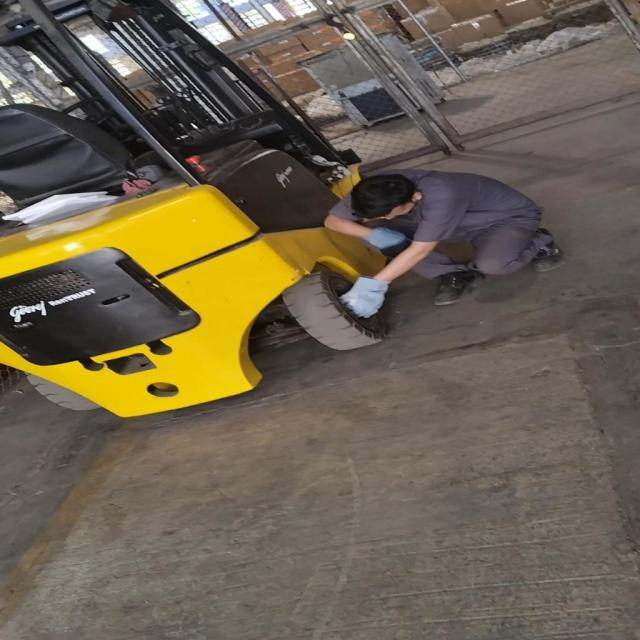Gloves-Detection: (333, 268, 387, 314), (360, 229, 398, 251)
